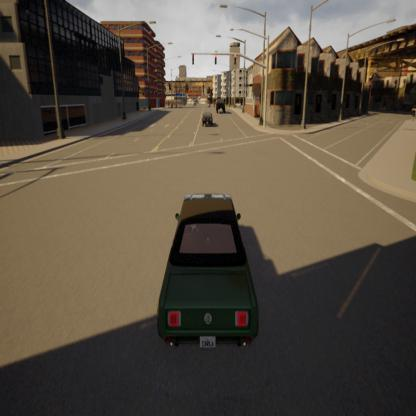Cars: (148, 185, 264, 356), (199, 108, 214, 131), (213, 94, 229, 112)
